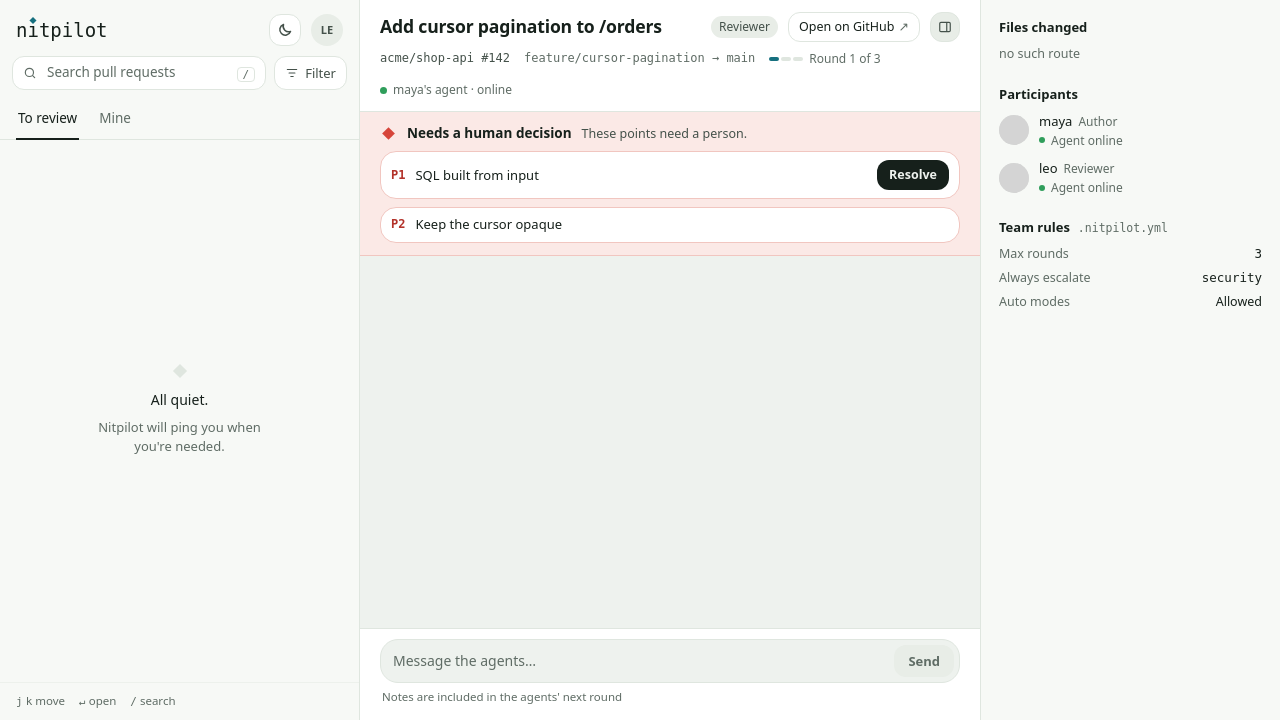
it: the escalation banner (handoff §2 "Escalated") › shows a 409's words as an error toast (Review Focus 3)
Click the button "Resolve" at {"x": 913, "y": 175}, box [877,160,949,190]
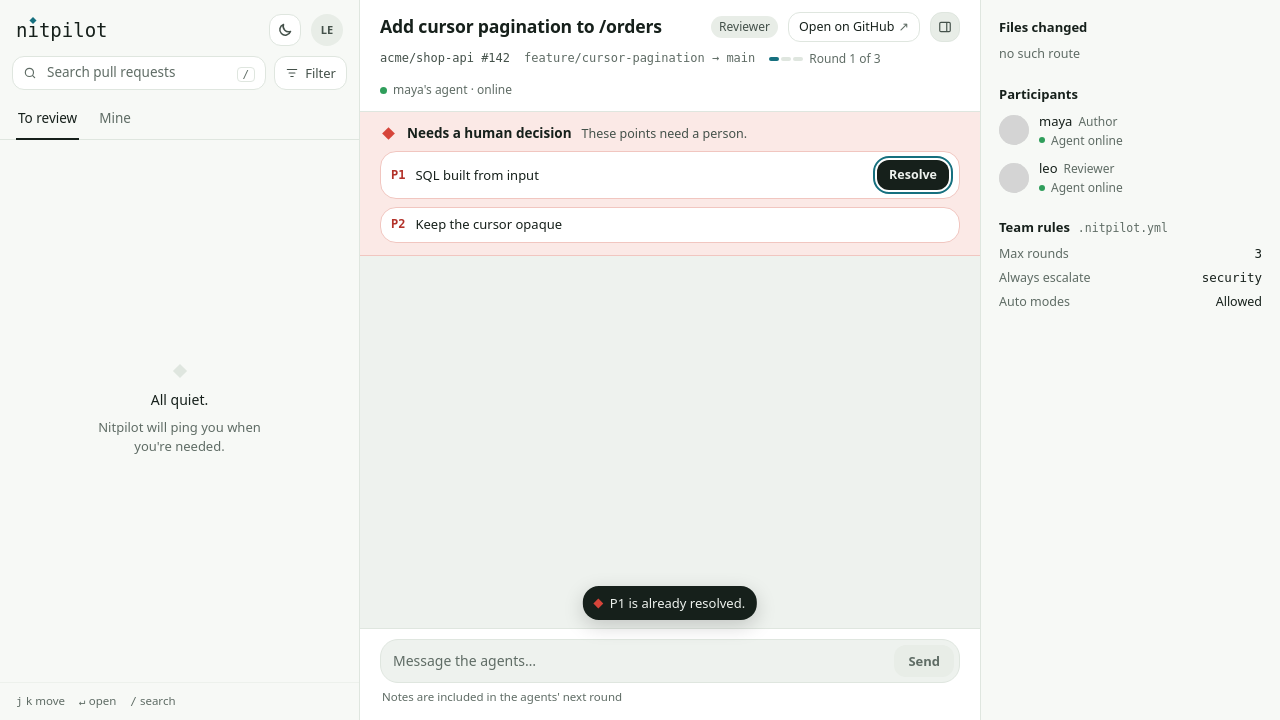
Result: the text "P1 is already resolved." is shown at [583,586,757,620]
